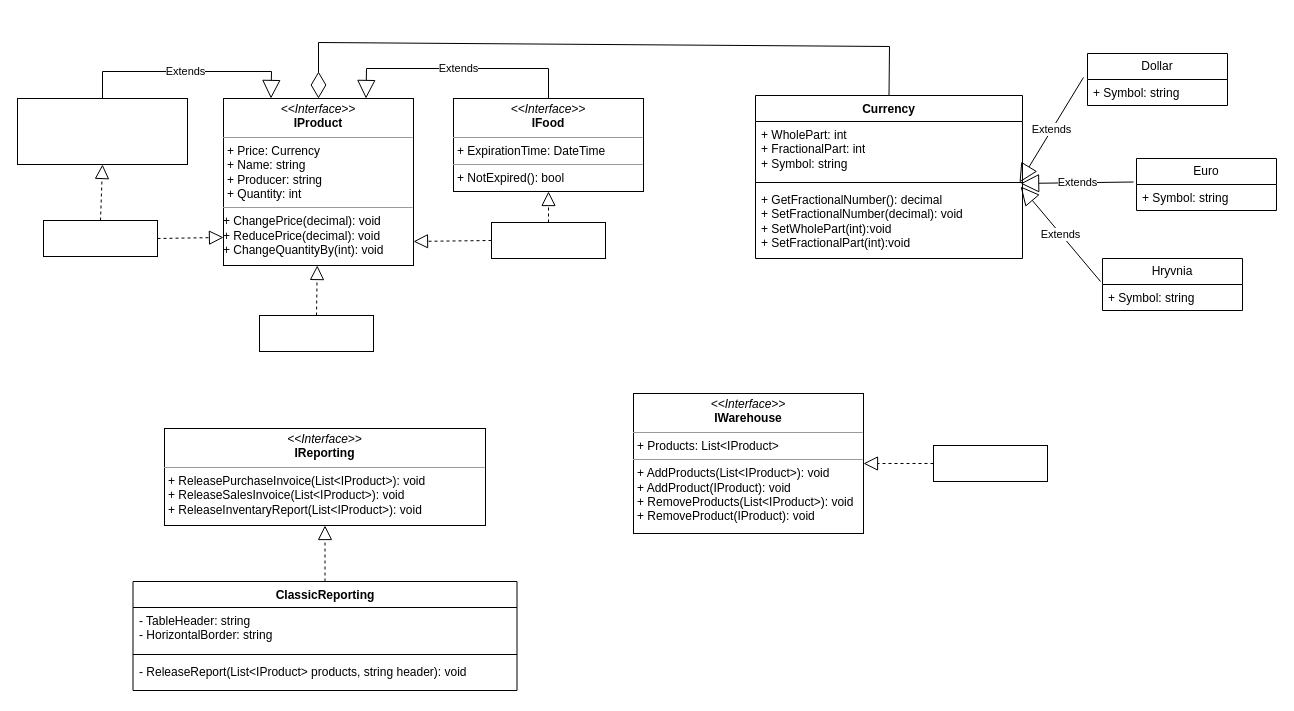
Image size: 1294x711. Some labels were removed from this diagram. The centre of each missing label's shape, as x and y in pixels:
"<<Interface>> IInstrument + Type: InstrumentType" belongs at (x=102, y=131).
"Food" belongs at (x=548, y=240).
"Instrument" belongs at (x=100, y=238).
"Product" belongs at (x=316, y=333).
"Warehouse" belongs at (x=990, y=463).
